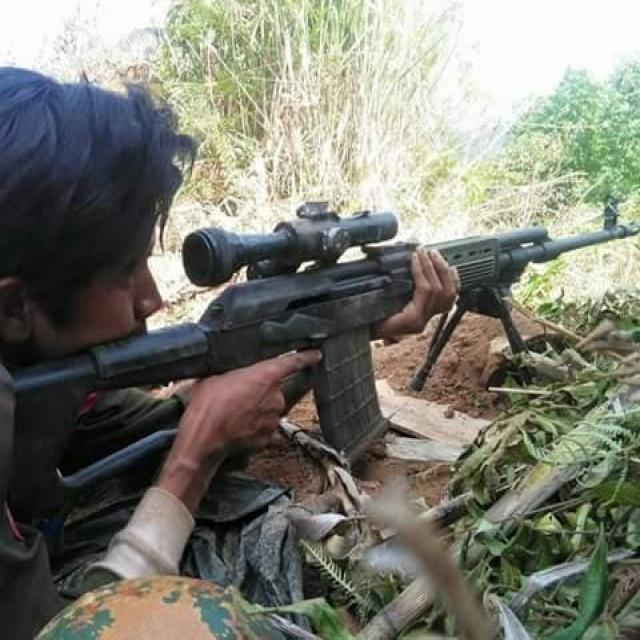rifle: (0, 187, 640, 488)
